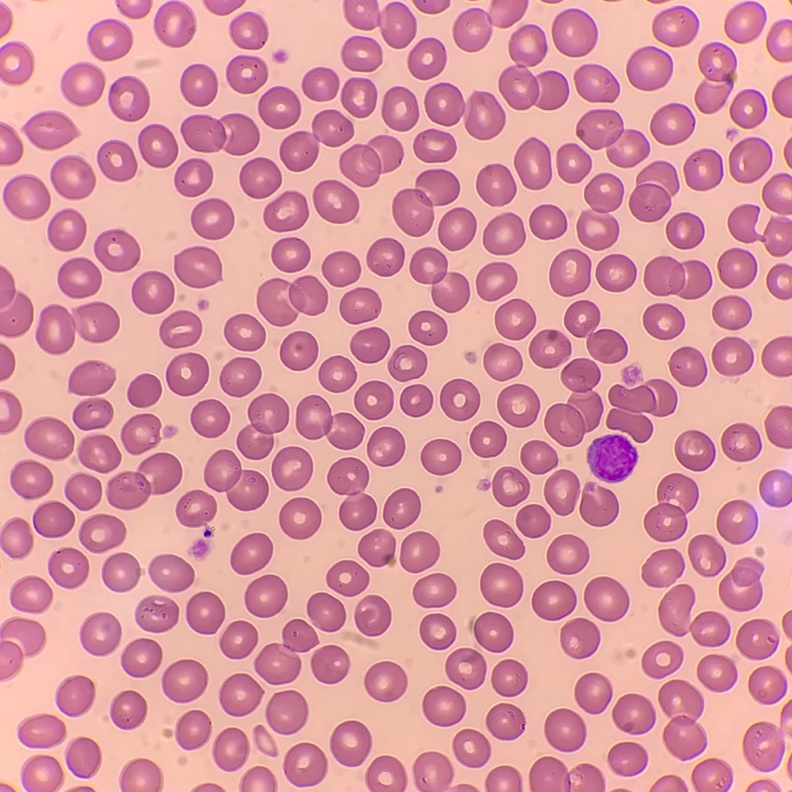RBC: (499, 24, 568, 109), (545, 358, 602, 446), (280, 110, 353, 171), (393, 169, 459, 236), (36, 302, 119, 354), (607, 379, 676, 441), (576, 109, 649, 167), (107, 453, 181, 509), (255, 619, 317, 684), (564, 301, 626, 363), (204, 450, 268, 510), (410, 248, 469, 312), (453, 0, 527, 51), (659, 680, 706, 759), (644, 474, 698, 541), (296, 396, 363, 449), (577, 173, 623, 249), (344, 0, 416, 48), (328, 458, 376, 530), (257, 276, 327, 325), (237, 394, 288, 459), (340, 135, 403, 186), (181, 113, 259, 154), (629, 161, 678, 221), (695, 42, 736, 113), (644, 256, 711, 298), (0, 618, 45, 680), (529, 757, 604, 791), (587, 435, 637, 482), (719, 558, 762, 611), (0, 267, 32, 337), (552, 9, 597, 56), (3, 174, 49, 219), (25, 417, 73, 460), (743, 722, 784, 771), (627, 46, 672, 90), (24, 111, 76, 149), (50, 155, 94, 199), (584, 577, 628, 621), (162, 659, 207, 702), (174, 246, 221, 287), (729, 137, 771, 182), (313, 180, 358, 222), (94, 229, 139, 271), (550, 249, 590, 296), (514, 139, 551, 189), (61, 62, 104, 105), (284, 743, 327, 786), (154, 1, 195, 46), (87, 19, 132, 60), (108, 76, 149, 121), (330, 721, 371, 766), (465, 92, 504, 139), (480, 563, 522, 606), (266, 690, 307, 734), (653, 6, 698, 46), (659, 584, 694, 635), (258, 86, 300, 128), (166, 353, 208, 395), (245, 575, 287, 617), (219, 674, 261, 716), (651, 103, 694, 144), (498, 384, 539, 427), (264, 191, 308, 231), (717, 500, 757, 544), (79, 514, 125, 552), (191, 198, 233, 239), (132, 271, 173, 313), (58, 258, 101, 298), (272, 447, 312, 490), (532, 581, 576, 620), (483, 213, 524, 254), (231, 533, 272, 574), (80, 613, 120, 655), (736, 619, 778, 659), (423, 686, 465, 726), (613, 694, 655, 734), (545, 709, 585, 751), (138, 124, 177, 167), (575, 64, 619, 102), (149, 554, 193, 592), (725, 1, 765, 42), (240, 158, 281, 198), (279, 498, 320, 538), (48, 547, 88, 588), (425, 83, 464, 125), (10, 460, 52, 499), (364, 662, 406, 701), (68, 360, 114, 395), (495, 299, 535, 339), (97, 140, 136, 181), (440, 379, 479, 420), (547, 535, 588, 574), (18, 714, 65, 748), (438, 208, 476, 250), (220, 357, 260, 396), (675, 430, 714, 470), (400, 532, 439, 572), (473, 612, 512, 652), (560, 618, 599, 658), (446, 648, 485, 688), (226, 55, 267, 93), (684, 149, 722, 190), (477, 164, 515, 205), (712, 337, 753, 375), (642, 549, 683, 587), (186, 592, 224, 633), (180, 64, 217, 106), (78, 435, 120, 472), (10, 576, 52, 613), (382, 87, 418, 130), (135, 596, 178, 632), (213, 728, 249, 771), (414, 752, 453, 791), (476, 262, 516, 300), (121, 414, 159, 454), (121, 639, 161, 677), (56, 676, 94, 716), (408, 38, 445, 79), (48, 209, 85, 250), (529, 330, 570, 367), (688, 535, 725, 576), (21, 755, 63, 791), (545, 470, 579, 514), (718, 249, 756, 288), (354, 381, 393, 419), (484, 520, 523, 558), (596, 254, 636, 291), (642, 641, 682, 678), (643, 303, 684, 339), (160, 311, 201, 347), (33, 501, 74, 537), (327, 560, 368, 596), (722, 423, 760, 461), (307, 593, 345, 631), (311, 645, 349, 683), (280, 331, 317, 370), (383, 489, 420, 528), (224, 314, 264, 350), (176, 490, 216, 526), (575, 673, 611, 713), (0, 41, 33, 84), (174, 159, 212, 196), (367, 238, 404, 276), (191, 400, 229, 437), (367, 427, 404, 465), (580, 489, 618, 526), (102, 553, 139, 591), (749, 666, 786, 704), (453, 729, 490, 767), (730, 89, 766, 128), (670, 347, 706, 386), (493, 467, 529, 506), (697, 655, 736, 691), (340, 288, 380, 323), (355, 595, 390, 635), (366, 756, 406, 791), (413, 574, 455, 607), (230, 12, 267, 49), (358, 529, 395, 566), (220, 621, 257, 658), (110, 691, 146, 729), (486, 703, 524, 739), (342, 36, 381, 71), (341, 78, 376, 117), (421, 439, 460, 474), (176, 710, 211, 749), (66, 737, 100, 777), (414, 129, 455, 162), (120, 759, 162, 791), (484, 344, 521, 380), (65, 473, 101, 510), (388, 345, 426, 380), (666, 213, 703, 248), (272, 237, 309, 272), (557, 144, 591, 182), (322, 252, 360, 286), (351, 328, 389, 362), (691, 612, 729, 646), (608, 742, 647, 775), (0, 518, 32, 558), (692, 759, 732, 791), (319, 356, 355, 391), (492, 660, 527, 696), (420, 614, 455, 649), (530, 205, 566, 239), (470, 422, 506, 456), (713, 296, 750, 329), (409, 311, 446, 344), (73, 398, 112, 429), (762, 336, 791, 376), (302, 68, 338, 100), (521, 441, 557, 473), (760, 470, 791, 506), (728, 205, 758, 242), (765, 406, 791, 448), (516, 505, 550, 537), (763, 218, 791, 256), (128, 374, 160, 407), (400, 385, 432, 416), (0, 123, 22, 165), (486, 766, 521, 791), (763, 183, 791, 214), (240, 767, 276, 791), (767, 264, 791, 298), (772, 76, 791, 117), (0, 397, 21, 434), (767, 34, 791, 61), (116, 0, 151, 18), (254, 727, 276, 755), (204, 0, 243, 14), (652, 776, 686, 791), (0, 344, 14, 379), (414, 0, 449, 13), (0, 4, 12, 35), (192, 540, 209, 557), (623, 367, 640, 383), (748, 780, 767, 791), (783, 612, 791, 637), (195, 784, 221, 791), (784, 142, 791, 163), (782, 703, 791, 717), (456, 784, 474, 791), (785, 648, 791, 667), (274, 52, 285, 61), (0, 784, 11, 791), (205, 528, 213, 536), (76, 787, 90, 791), (0, 390, 5, 398)
